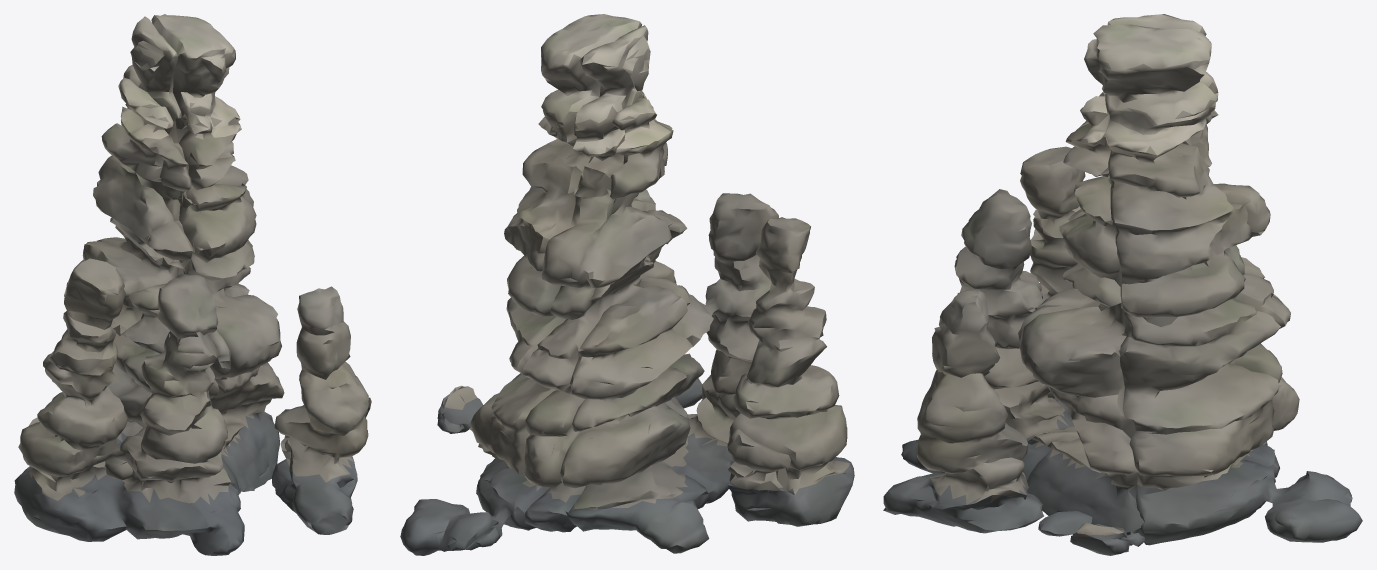
Rendered from searock_b.glb.
3 renders of one model, left to right at view 1: azimuth 30°, elevation 25°; view 2: azimuth 150°, elevation 25°; view 3: azimuth 270°, elevation 25°, orthographic. The views are drawn at different scales.
Parts seen in each view (by area): view 1: searock_b; view 2: searock_b; view 3: searock_b.
Part boxes in pixels (box(x1,y1,x2,y2)): searock_b: box(14, 14, 371, 555); searock_b: box(400, 14, 854, 555); searock_b: box(883, 14, 1362, 555).
Size of the model in its own units: 12.81 by 15.42 by 14.01.
